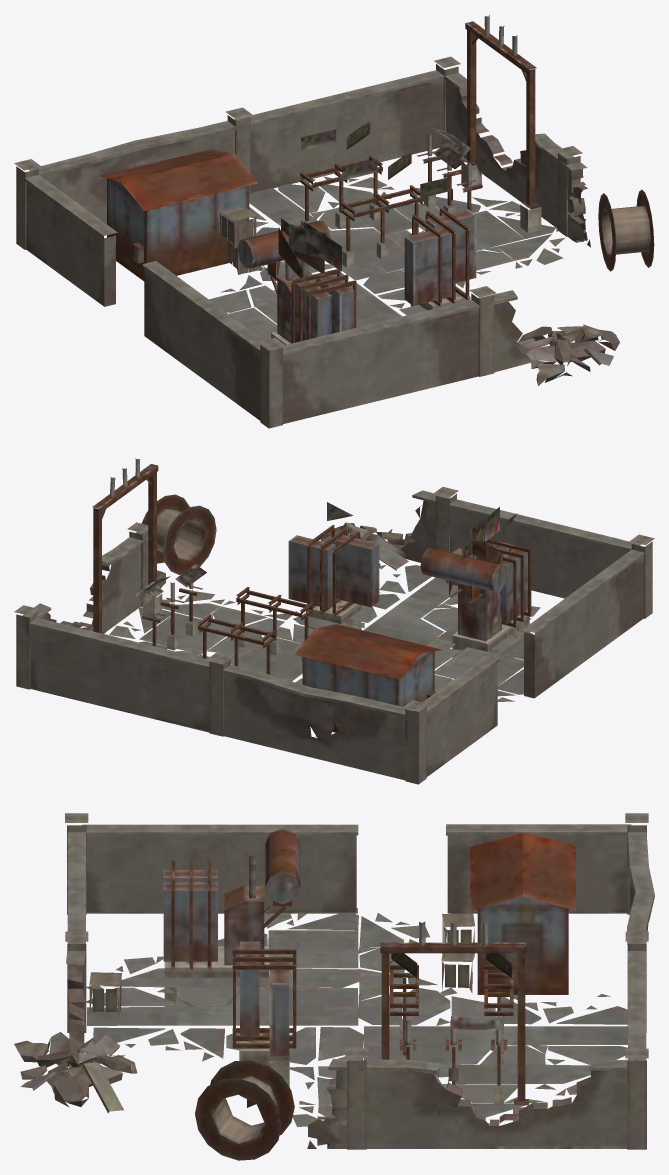
The model's file is power_sub_big_2.glb.
3 renders of one model, top to bottom at view 1: azimuth 30°, elevation 25°; view 2: azimuth 150°, elevation 25°; view 3: azimuth 270°, elevation 25°, orthographic. The views are drawn at different scales.
Parts seen in each view (by area): view 1: power_sub_big_2_hlod; view 2: power_sub_big_2_hlod; view 3: power_sub_big_2_hlod.
Part boxes in pixels (bbox=[...]): power_sub_big_2_hlod: bbox=[14, 15, 654, 428]; power_sub_big_2_hlod: bbox=[14, 458, 654, 784]; power_sub_big_2_hlod: bbox=[14, 813, 654, 1160].
Size of the model in its own units: 20.29 by 8.74 by 21.16.
1 material, 1 textured.
